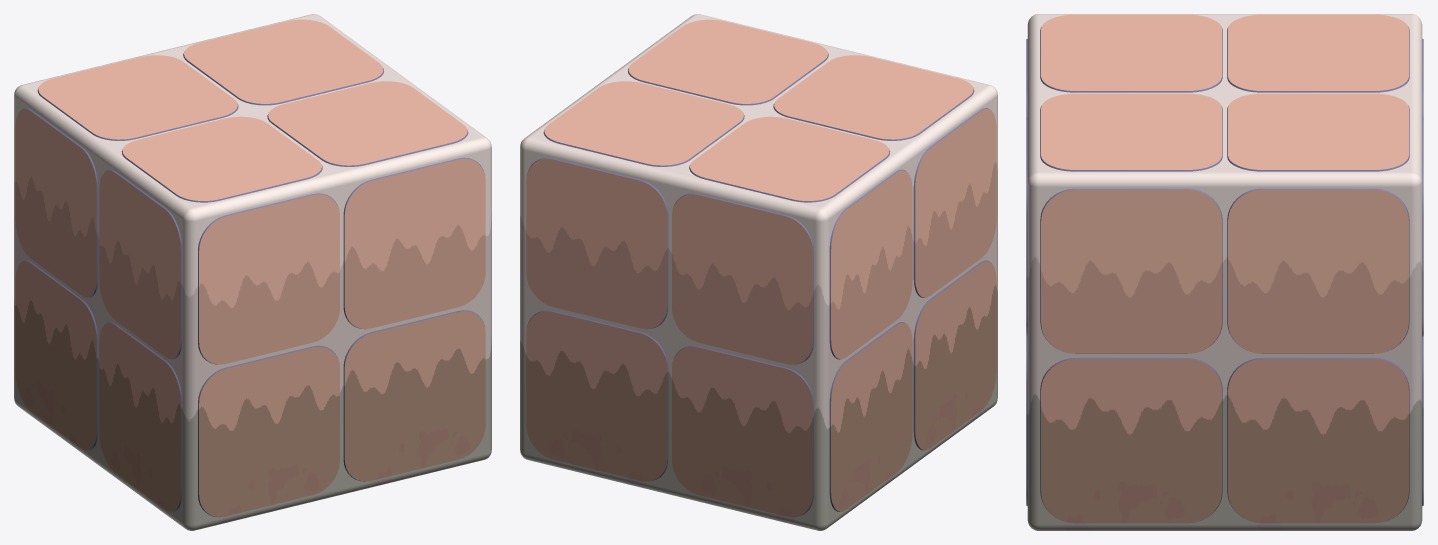
The model's file is R4B_BigCube2.glb.
The picture shows the model from 3 angles, left to right: view 1: azimuth 30°, elevation 25°; view 2: azimuth 150°, elevation 25°; view 3: azimuth 270°, elevation 25°; orthographic projection. The views are drawn at different scales.
Visible parts, largest first — view 1: R4B_BigCube2; view 2: R4B_BigCube2; view 3: R4B_BigCube2.
Part boxes in pixels (x1=…): R4B_BigCube2: x1=14, y1=14, x2=491, y2=530; R4B_BigCube2: x1=520, y1=14, x2=997, y2=530; R4B_BigCube2: x1=1026, y1=14, x2=1423, y2=530.
Bounding box in the file's own units: 1.07 × 1.07 × 1.07.
Materials: 3 (3 with a texture image).
